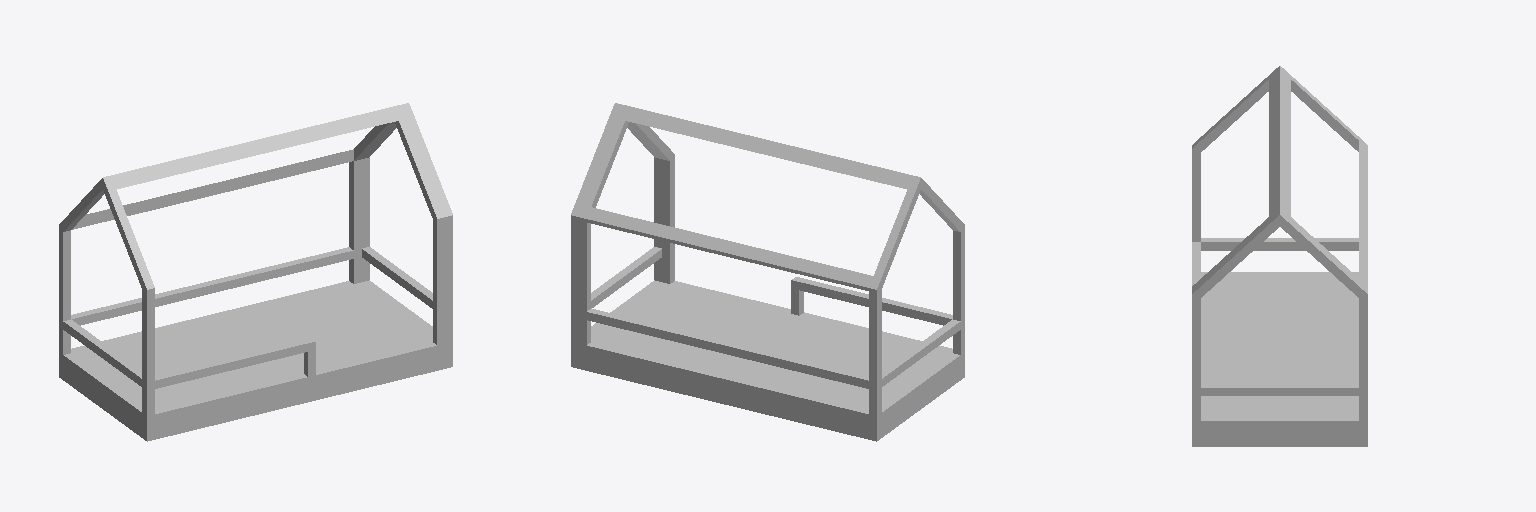
The model's file is Hausbett.obj.
The picture shows the model from 3 angles: view 1: azimuth 30°, elevation 25°; view 2: azimuth 150°, elevation 25°; view 3: azimuth 270°, elevation 25°; orthographic projection.
Visible parts, largest first — view 1: Körper1; view 2: Körper1; view 3: Körper1.
Part boxes in pixels (bbox=[...]): Körper1: bbox=[59, 103, 452, 441]; Körper1: bbox=[571, 103, 964, 441]; Körper1: bbox=[1192, 66, 1367, 446].
Bounding box in the file's own units: 1900 × 1375 × 950.